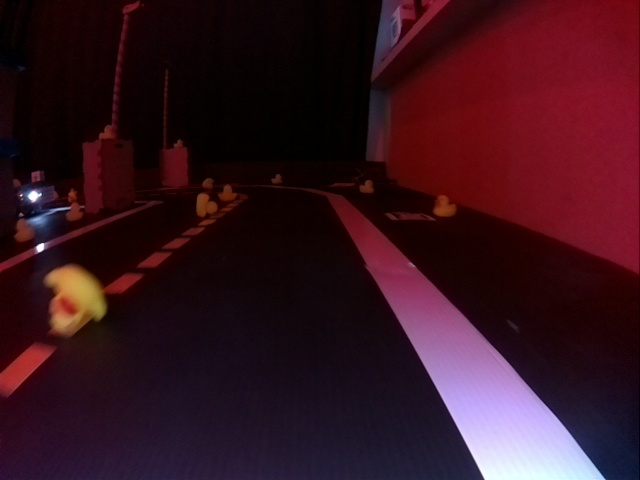Duckie: (46, 266, 104, 329), (197, 193, 217, 215), (436, 195, 455, 215), (16, 220, 34, 239), (220, 184, 235, 200), (68, 204, 82, 221), (99, 125, 115, 137), (361, 180, 373, 193), (271, 174, 281, 183), (173, 139, 183, 147)
Duckiebot: (19, 182, 55, 210)
QR code: (385, 212, 433, 222)
